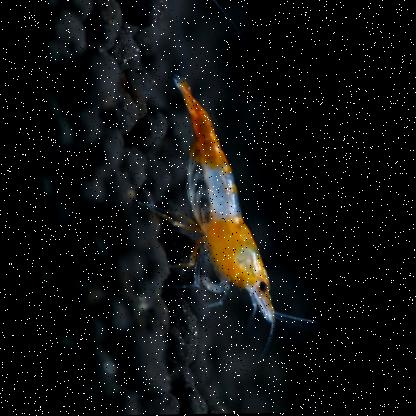shrimp: (125, 77, 267, 321)
